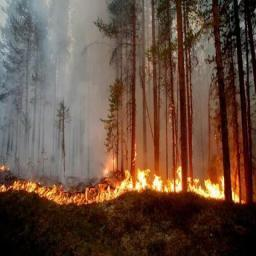Low smoke: (7, 6, 112, 169), (123, 19, 237, 161)
Small fire: (2, 165, 243, 208)
